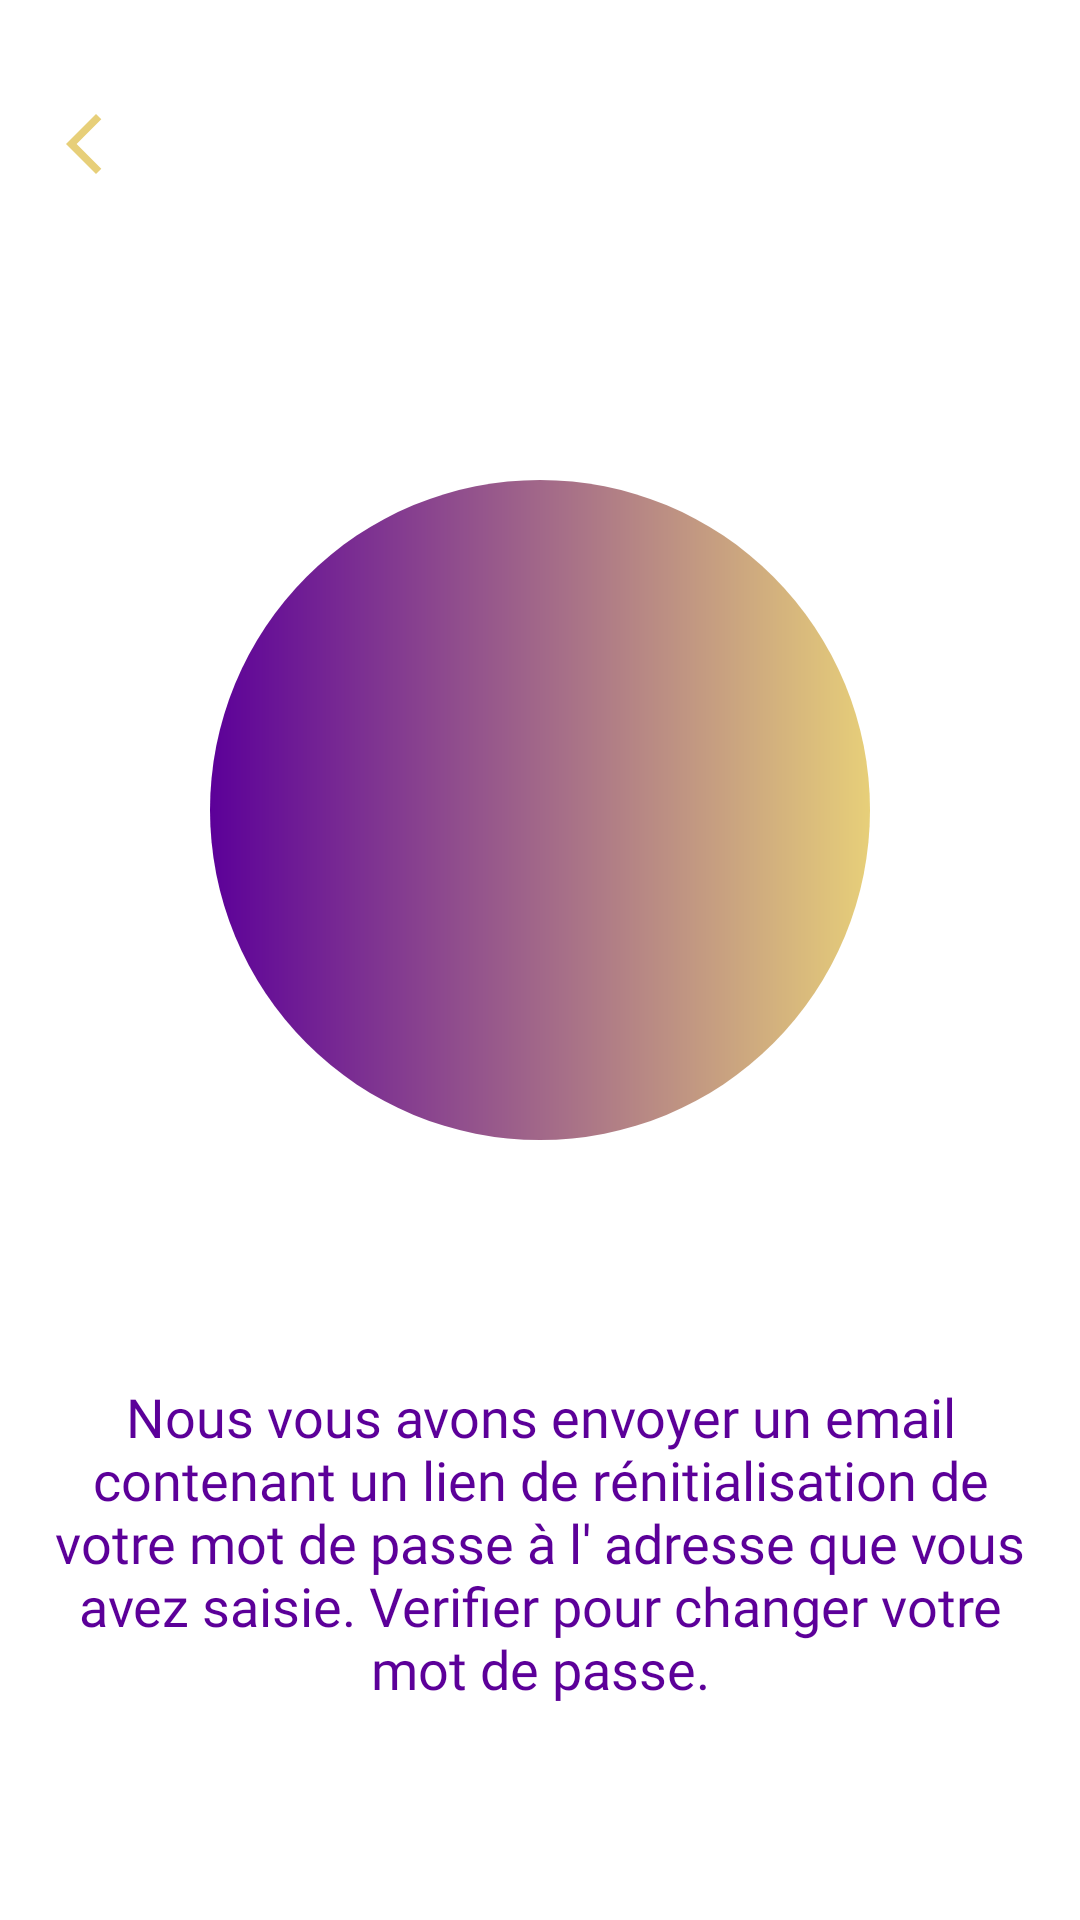

Icons on this 1080px×1920px Android screen, each with the point to tap as [x,y]:
back: [83,144]
